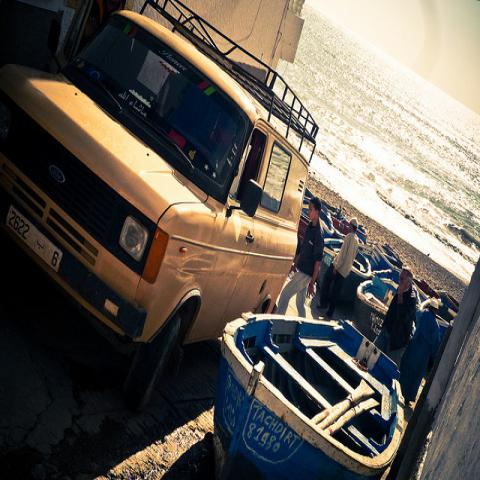car: (1, 3, 319, 417)
truck: (2, 2, 319, 414)
